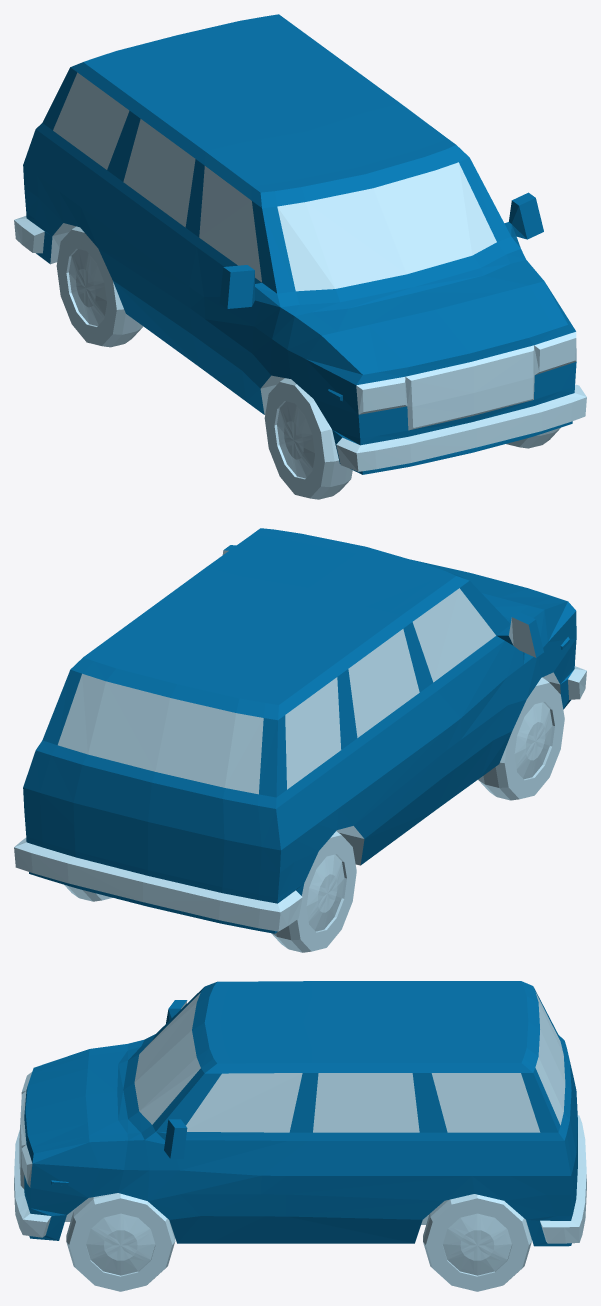
The model's file is citypack-van.glb.
3 renders of one model, top to bottom at view 1: azimuth 30°, elevation 25°; view 2: azimuth 150°, elevation 25°; view 3: azimuth 270°, elevation 25°, orthographic. The views are drawn at different scales.
Visible parts, largest first — view 1: body; view 2: body; view 3: body.
Part boxes in pixels (x1=…): body: x1=14, y1=14, x2=586, y2=499; body: x1=14, y1=528, x2=586, y2=952; body: x1=14, y1=981, x2=586, y2=1291.
Bounding box in the file's own units: 43.89 × 34.33 × 80.23.
1 material, 1 textured.
